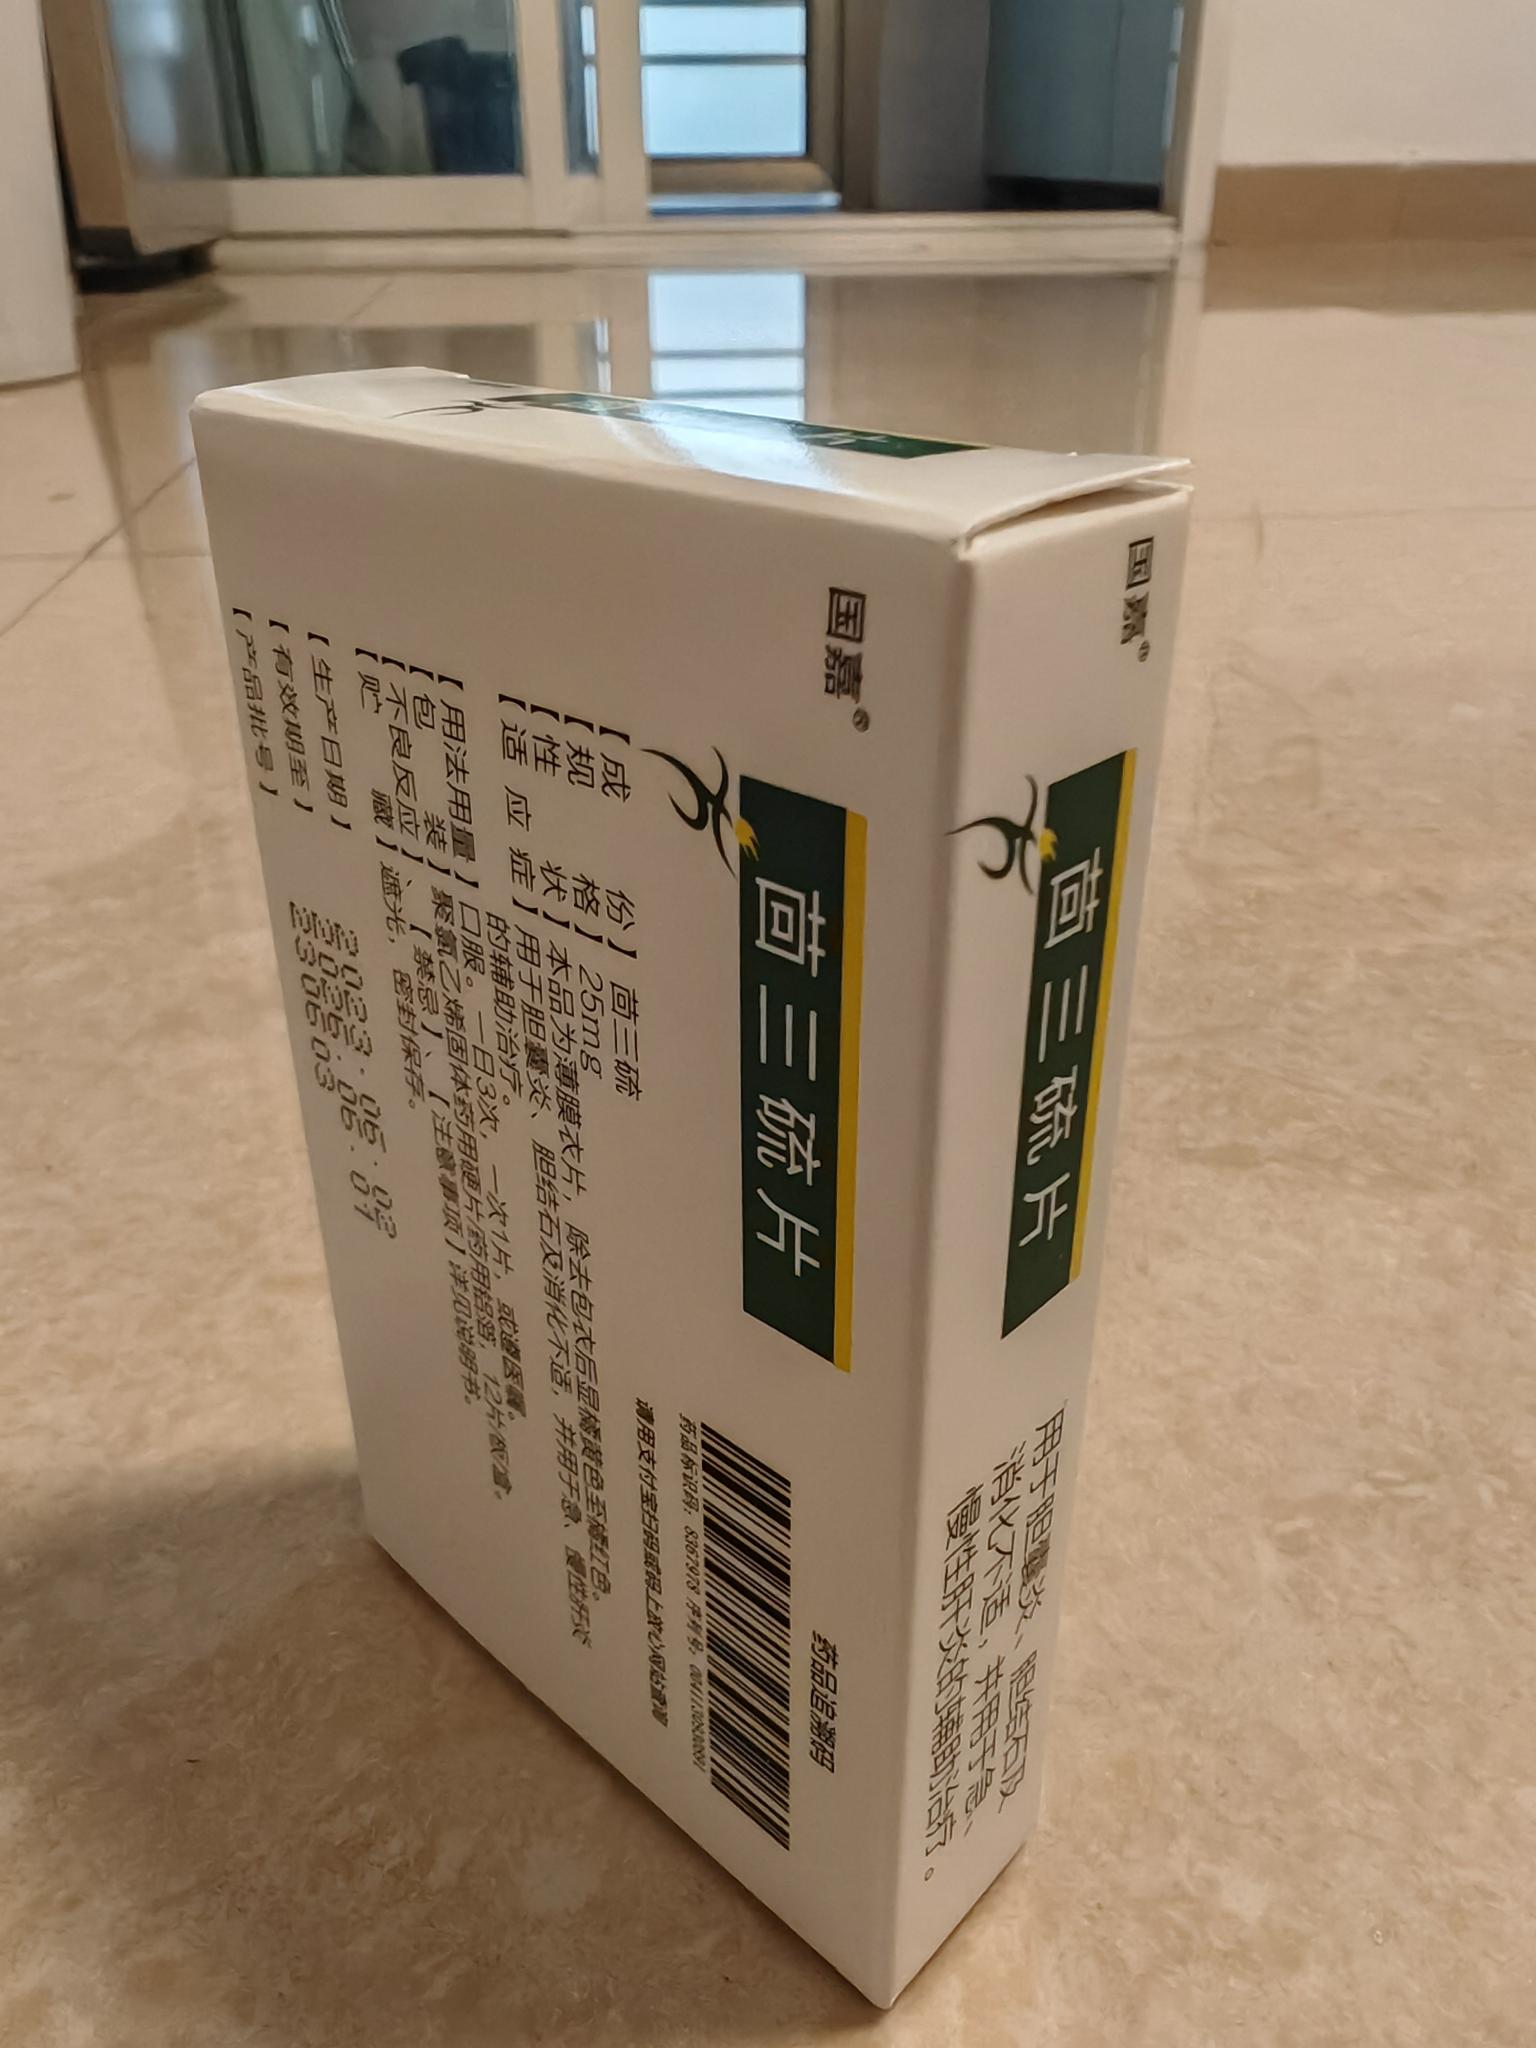Medicine4: (173, 348, 1212, 2029)
